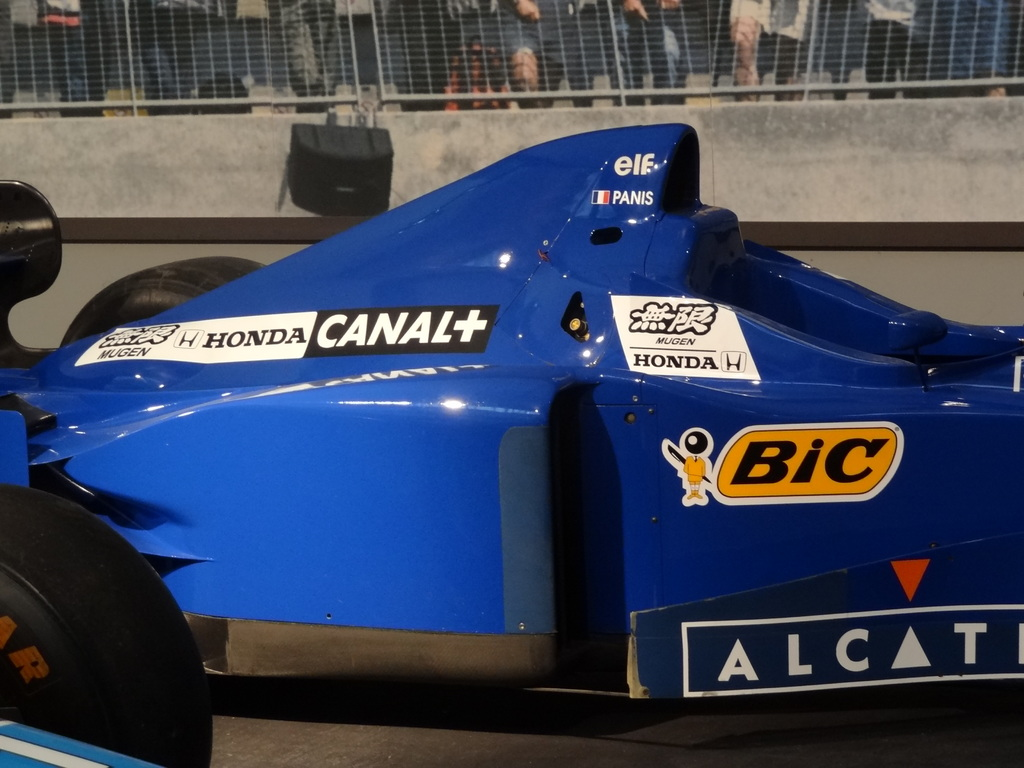cars: (12, 112, 1004, 721)
